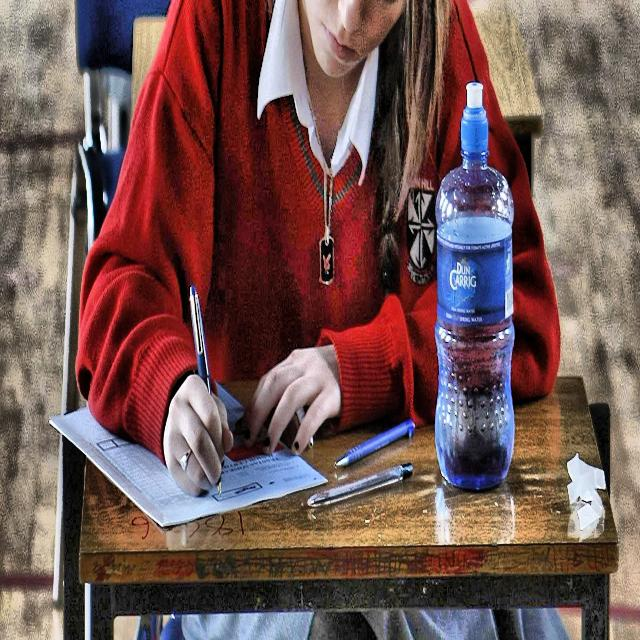Bottles: (424, 80, 524, 500)
